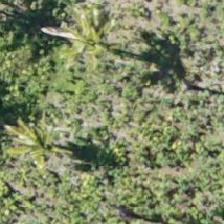coconut_tree: (0, 97, 85, 187), (42, 0, 132, 80)
